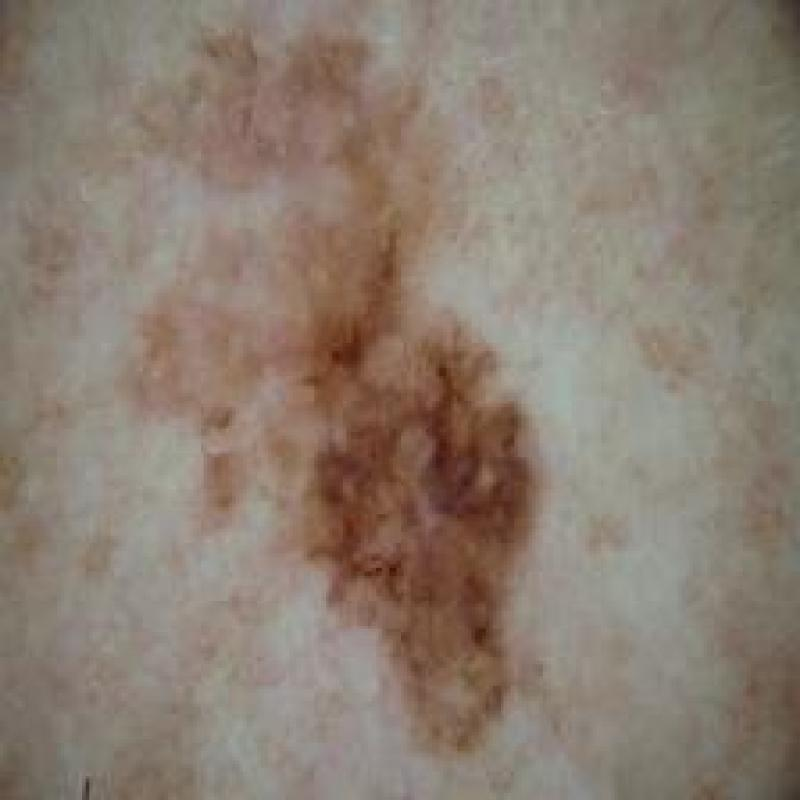malignant: (119, 23, 603, 760)
